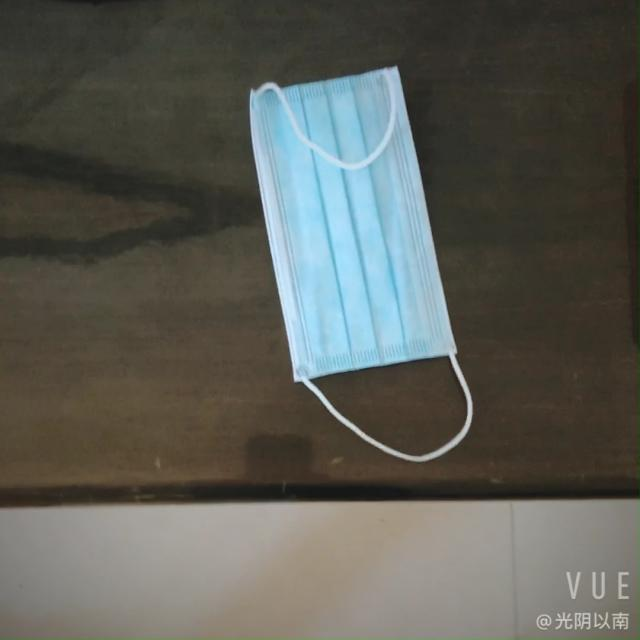face mask: (242, 47, 480, 382)
